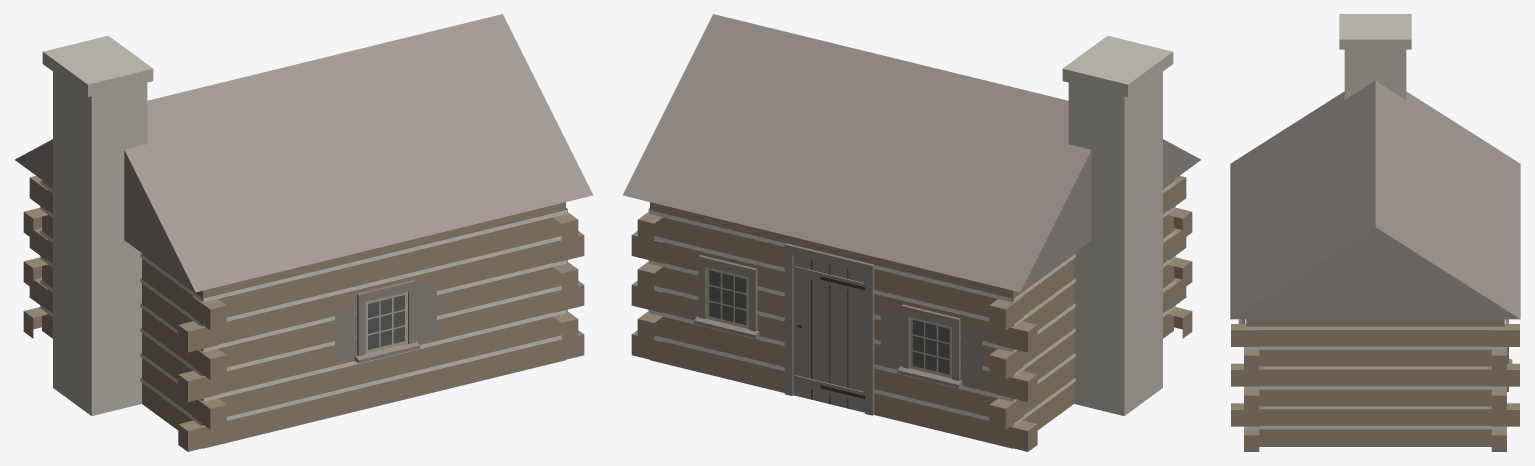
File: agency_striker_log_house__log_1830.glb
The picture shows the model from 3 angles, left to right: view 1: azimuth 30°, elevation 25°; view 2: azimuth 150°, elevation 25°; view 3: azimuth 270°, elevation 25°; orthographic projection. The views are drawn at different scales.
Visible parts, largest first — view 1: agency_striker_log_house__log_1830; view 2: agency_striker_log_house__log_1830; view 3: agency_striker_log_house__log_1830.
Part boxes in pixels (<box>): agency_striker_log_house__log_1830: <box>15,14,593,451</box>; agency_striker_log_house__log_1830: <box>622,14,1200,451</box>; agency_striker_log_house__log_1830: <box>1230,14,1520,451</box>.
Size of the model in its own units: 6.27 by 4.6 by 4.5.
